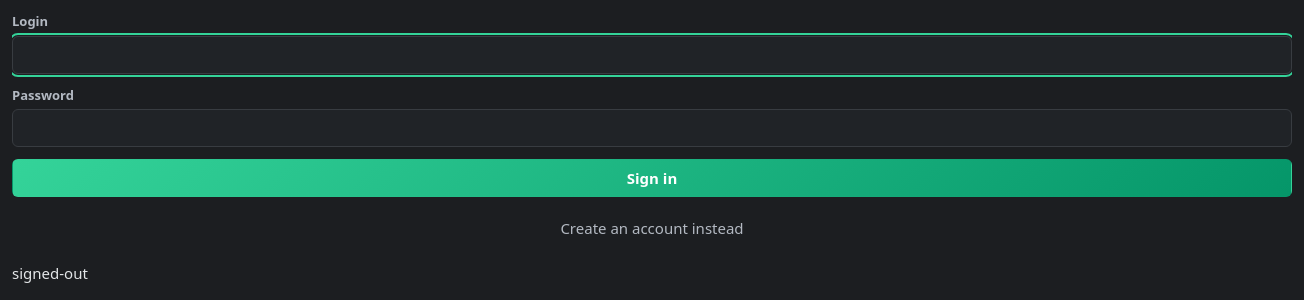
Scenario: PasswordAuthForm › signs in with valid credentials
Type "alice" into the field labelled "Login" at {"x": 652, "y": 54}, box [12,36,1292,74]
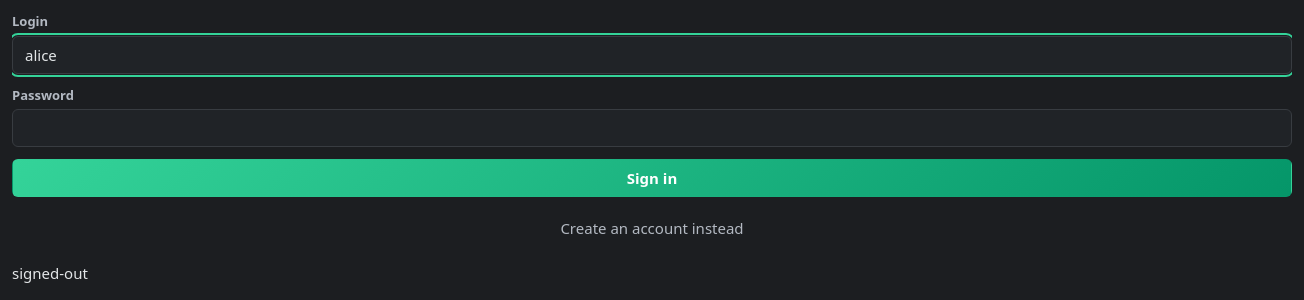
Type "correct-password" into the password field labelled "Password" at {"x": 652, "y": 128}, box [12,109,1292,147]
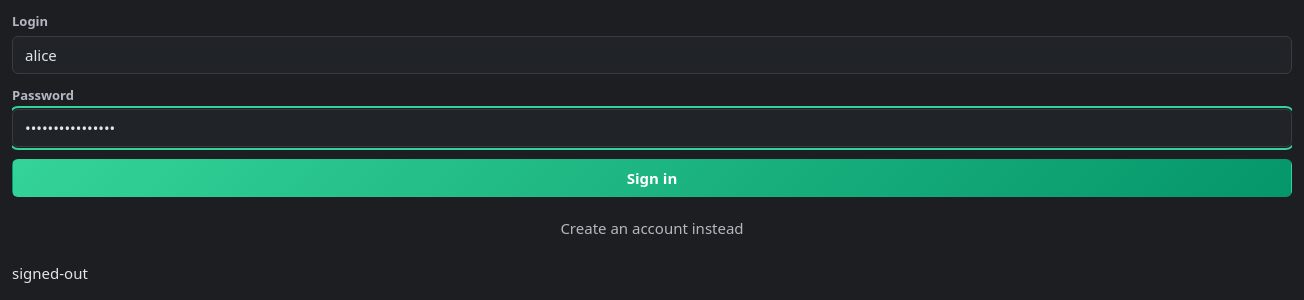
Click the button "Sign in" at {"x": 652, "y": 178}, box [12,159,1292,197]
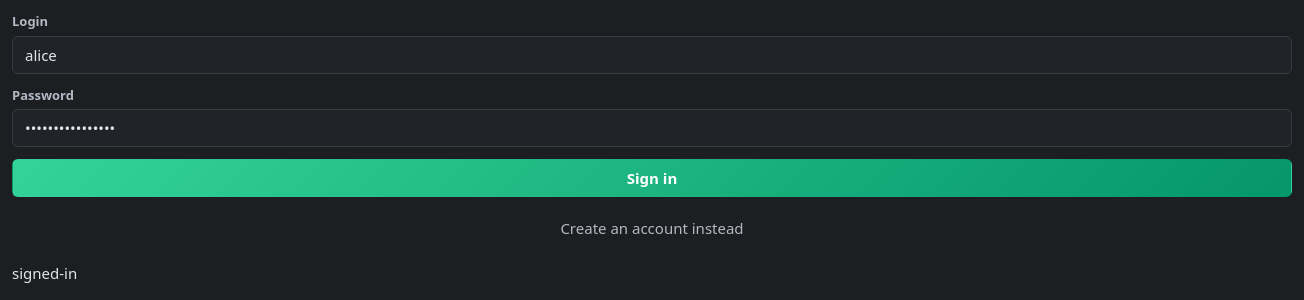
Now the text with test id "probe" reads "signed-in", box [12,263,77,283]
